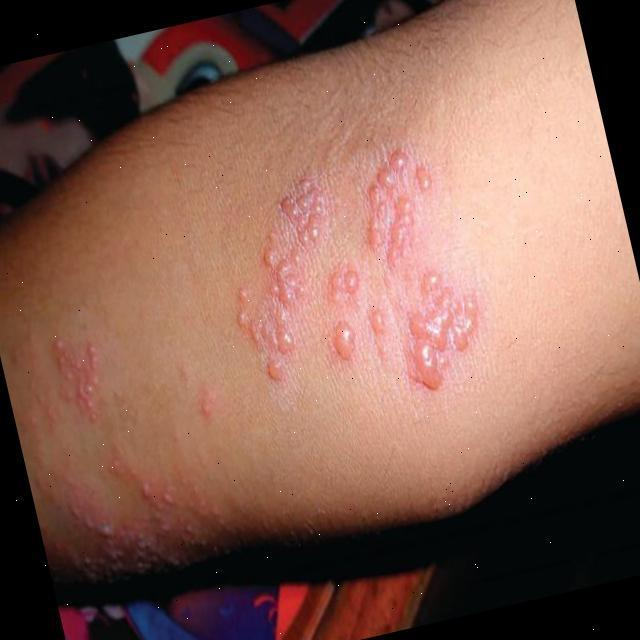Shingles: (244, 148, 476, 398), (23, 340, 219, 573)
